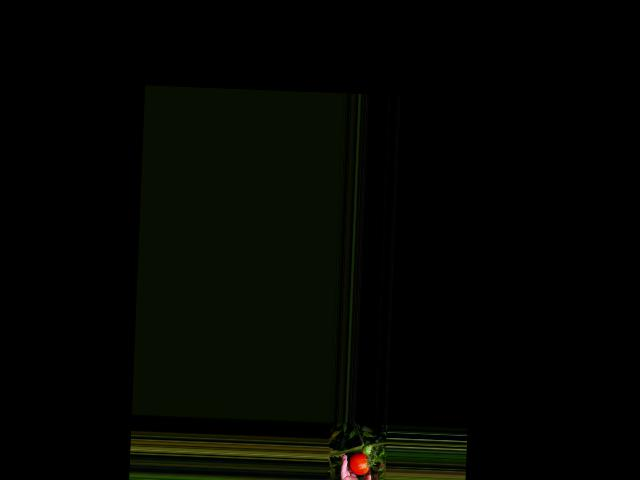tomato: (348, 451, 369, 476)
